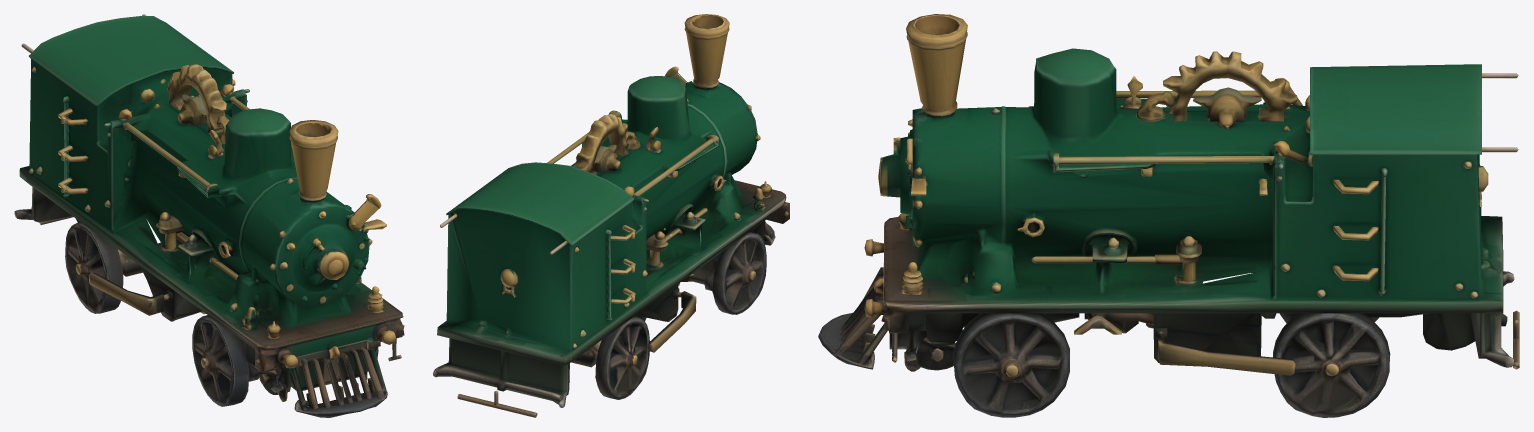
File: toy-train.glb
3 renders of one model, left to right at view 1: azimuth 30°, elevation 25°; view 2: azimuth 150°, elevation 25°; view 3: azimuth 270°, elevation 25°, orthographic. The views are drawn at different scales.
Visible parts, largest first — view 1: a5517c60_7b94_4436_a87e_4200d448adf5; view 2: a5517c60_7b94_4436_a87e_4200d448adf5; view 3: a5517c60_7b94_4436_a87e_4200d448adf5.
Boxes of the visible parts, x1=… form: a5517c60_7b94_4436_a87e_4200d448adf5: x1=14, y1=14, x2=404, y2=417; a5517c60_7b94_4436_a87e_4200d448adf5: x1=433, y1=14, x2=789, y2=417; a5517c60_7b94_4436_a87e_4200d448adf5: x1=818, y1=14, x2=1519, y2=417.
Size of the model in its own units: 0.353 by 0.5522 by 0.9995.
1 material, 1 textured.
